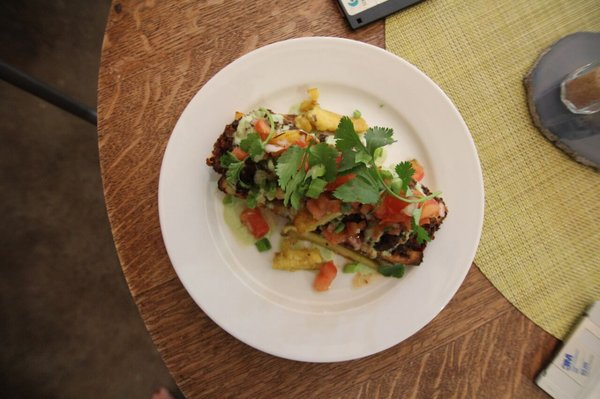sushi: (137, 32, 487, 368)
